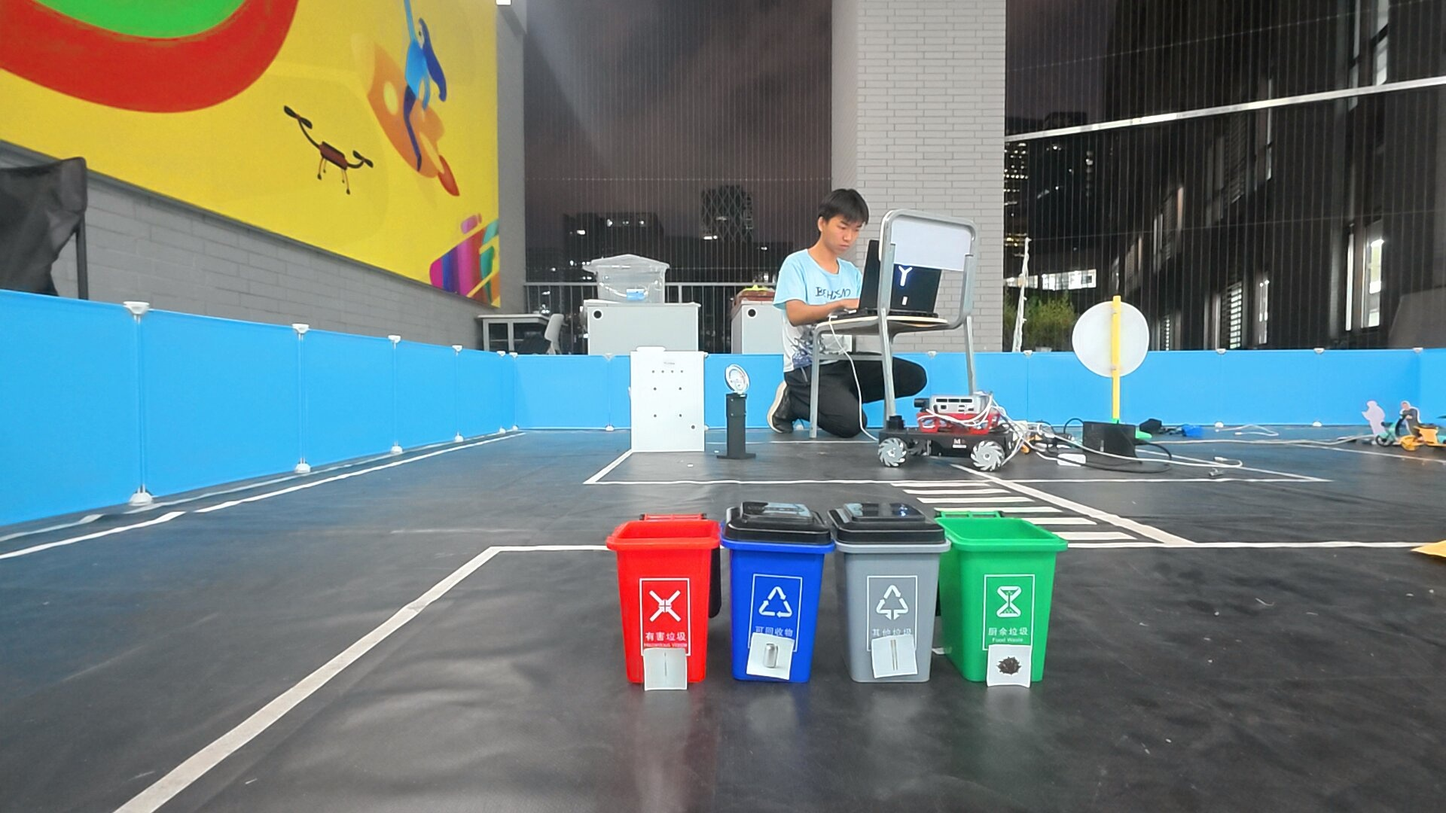food_trash: (990, 648, 1029, 684)
hazardous_trash: (648, 651, 684, 686)
other_trash: (875, 639, 911, 673)
recyclable_trash: (753, 637, 788, 674)
